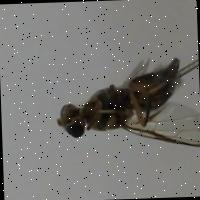Oriental-fruit-fly: (44, 45, 200, 162)
